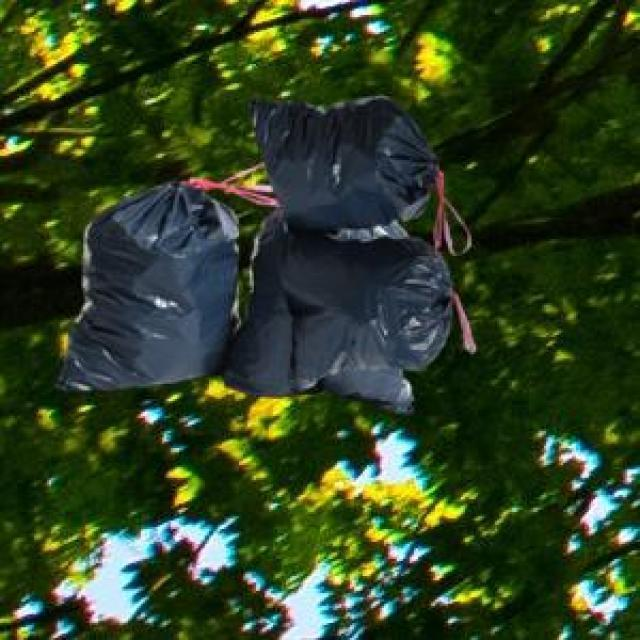Vinyl: (62, 98, 451, 411)
